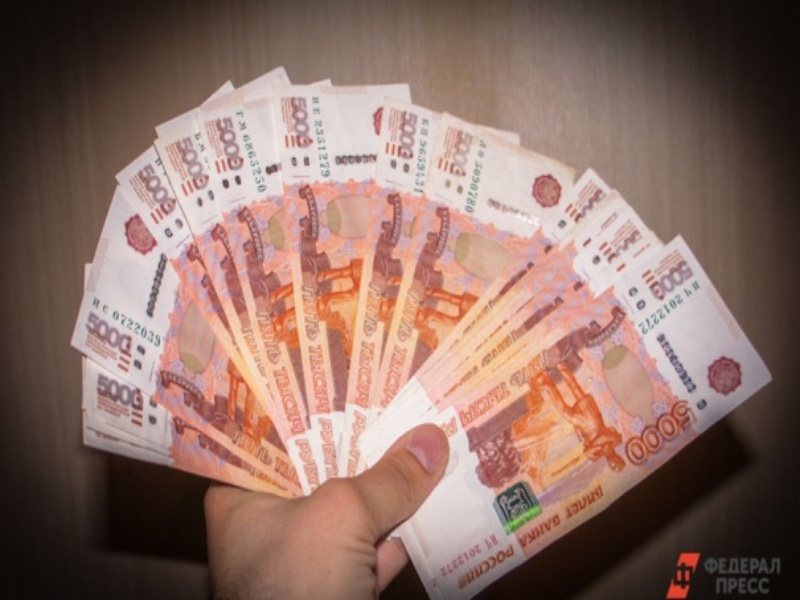cash: (69, 66, 774, 600)
